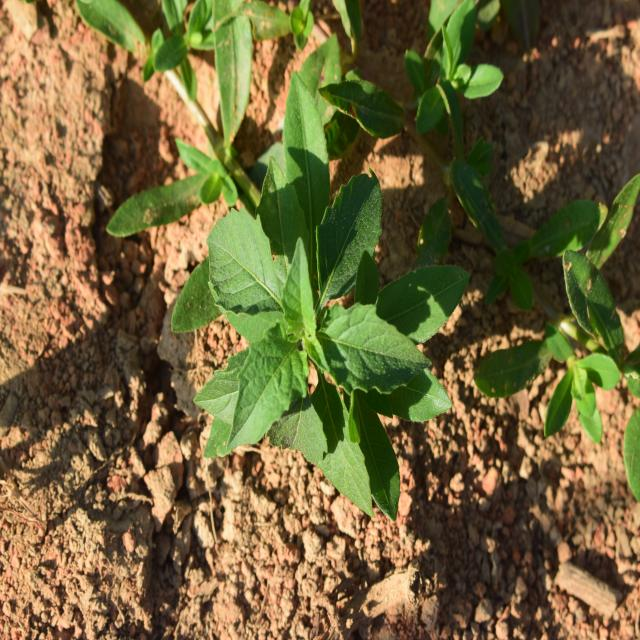Black_nightshade: (203, 162, 434, 495)
